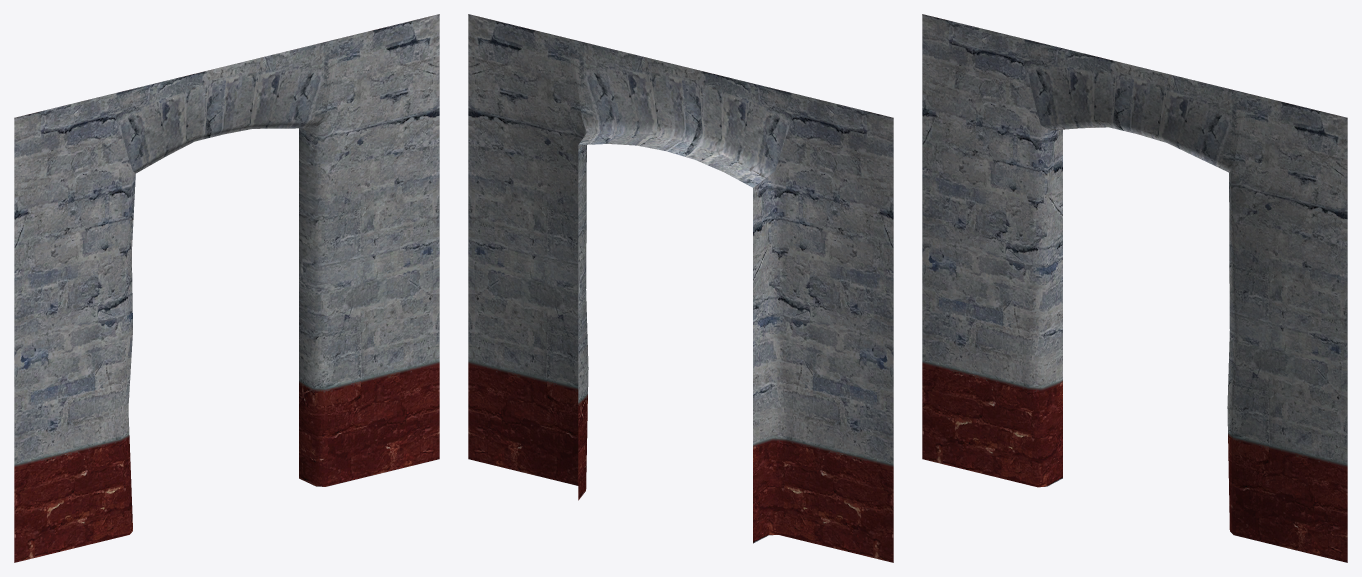
File: factory_corridor_01_doorway.DAE
The picture shows the model from 3 angles, left to right: view 1: azimuth 30°, elevation 25°; view 2: azimuth 150°, elevation 25°; view 3: azimuth 330°, elevation 25°; orthographic projection.
Parts seen in each view (by area): view 1: Object035, Object036; view 2: Object035, Object036; view 3: Object035, Object036.
Boxes of the visible parts, left/top/right/bottom form: Object035: left=14, top=14, right=439, bottom=562; Object036: left=108, top=39, right=336, bottom=173; Object035: left=468, top=14, right=893, bottom=562; Object036: left=571, top=39, right=799, bottom=187; Object035: left=922, top=14, right=1347, bottom=562; Object036: left=1016, top=37, right=1244, bottom=172.
Size of the model in its own units: 4 by 4 by 0.25.
